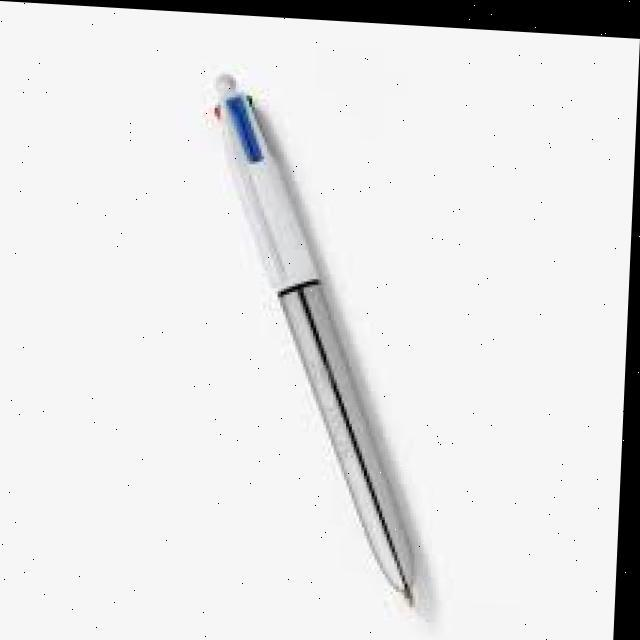pen: (182, 69, 439, 604)
